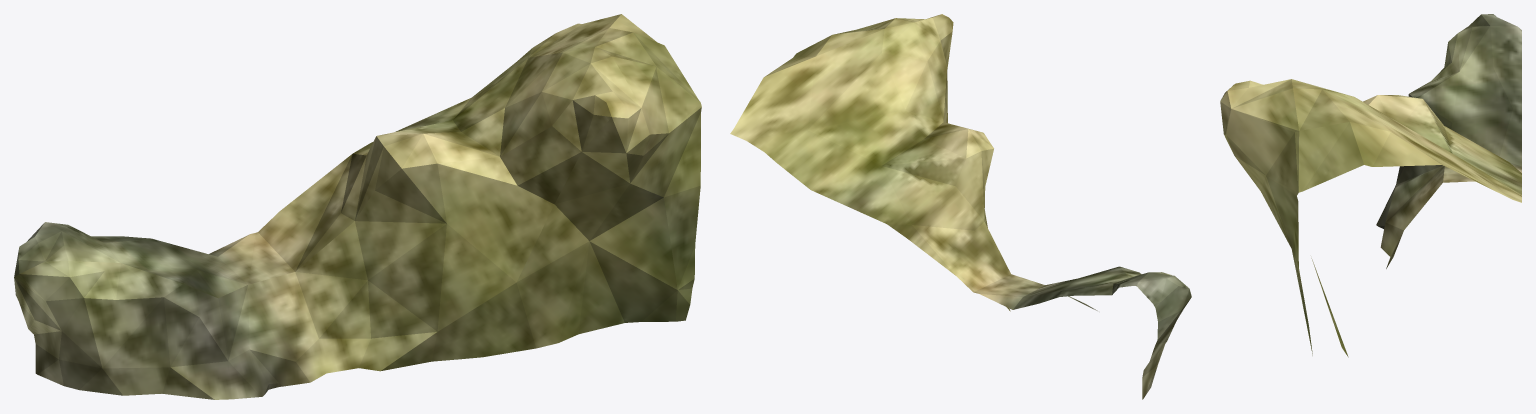
The picture shows the model from 3 angles, left to right: view 1: azimuth 30°, elevation 25°; view 2: azimuth 150°, elevation 25°; view 3: azimuth 270°, elevation 25°; orthographic projection. The views are drawn at different scales.
Bounding box in the file's own units: 3.88 × 1.9 × 1.92.
Materials: 1 (1 with a texture image).
